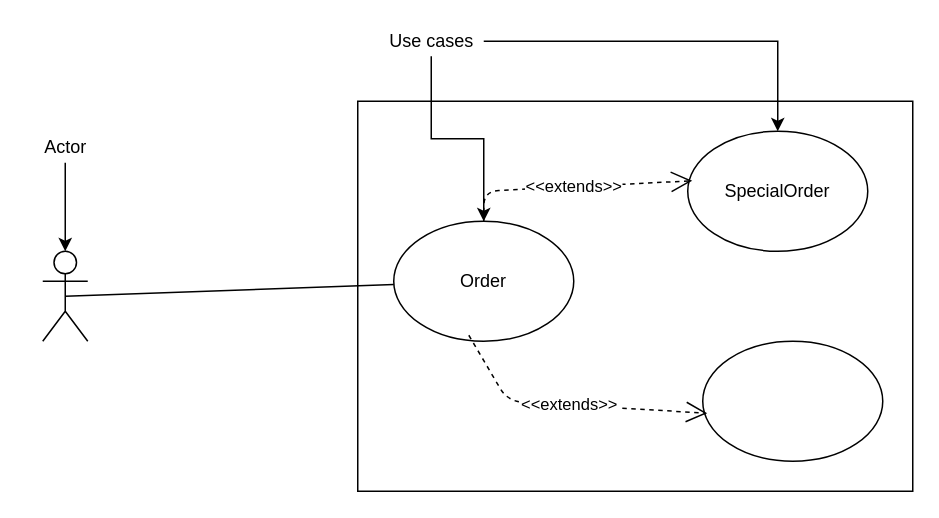
The diagram is 939 pixels wide and 518 high, and some of its shapes have lost their labels. Each missing label, with the centre of its shape:
"Customer" belongs at pixel 64 295.
"NormalOrder" belongs at pixel 792 400.
